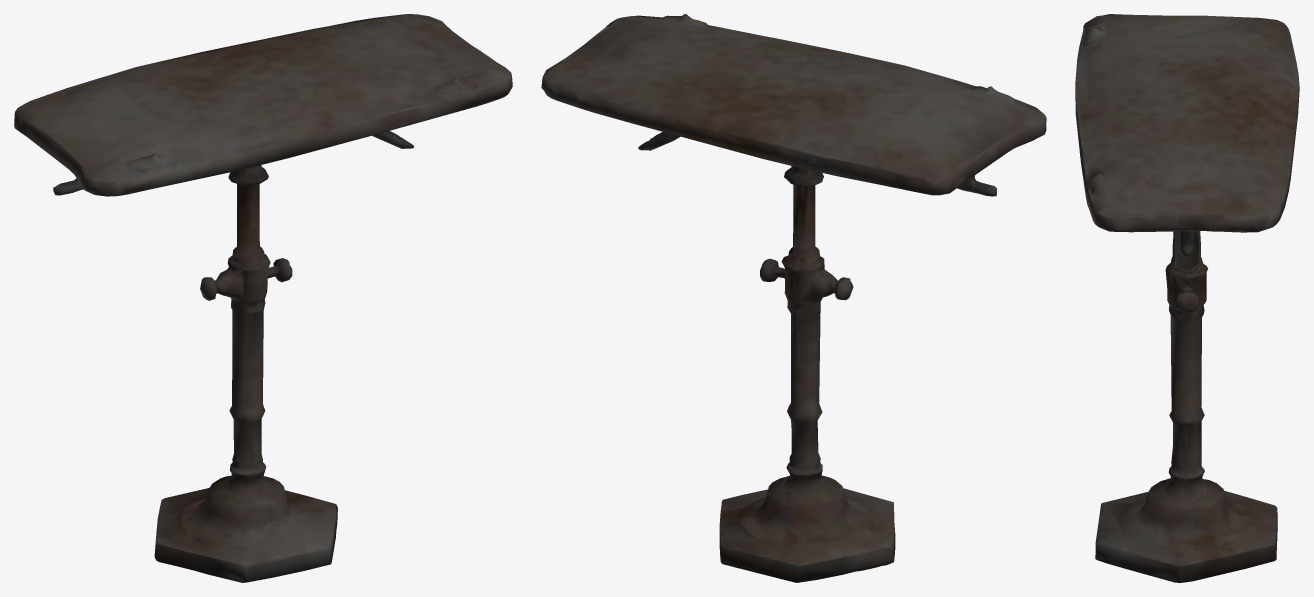
Rendered from plain-iron-operating-table-v002.glb.
The picture shows the model from 3 angles, left to right: view 1: azimuth 30°, elevation 25°; view 2: azimuth 150°, elevation 25°; view 3: azimuth 270°, elevation 25°; orthographic projection.
Visible parts, largest first — view 1: plain-iron-operating-table; view 2: plain-iron-operating-table; view 3: plain-iron-operating-table.
Part boxes in pixels (x1,y1,x2,y2): plain-iron-operating-table: (14,14,512,582); plain-iron-operating-table: (541,14,1046,582); plain-iron-operating-table: (1075,14,1299,582).
Bounding box in the file's own units: 0.8145 × 0.8293 × 0.3743.
Materials: 1 (1 with a texture image).
